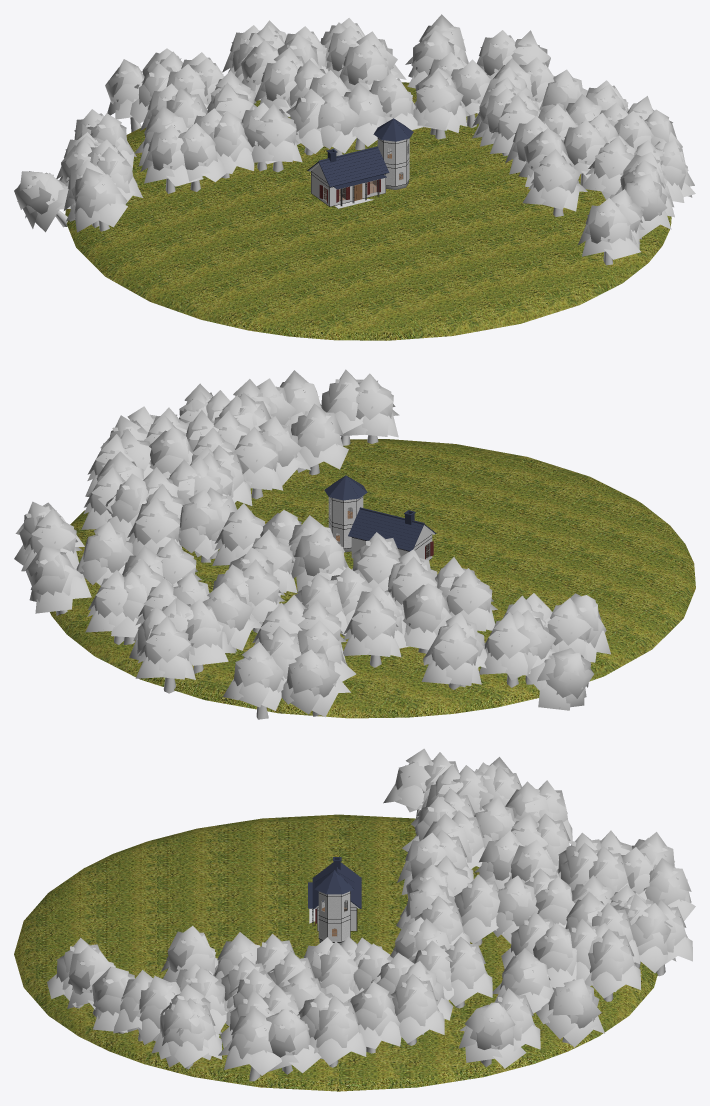
The model's file is AliceHouse.fbx.
3 renders of one model, top to bottom at view 1: azimuth 30°, elevation 25°; view 2: azimuth 150°, elevation 25°; view 3: azimuth 270°, elevation 25°, orthographic. The views are drawn at different scales.
Parts seen in each view (by area): view 1: Body; view 2: Body; view 3: Body.
Boxes of the visible parts, x1,y1,x2,y2 form: Body: [14, 14, 695, 340]; Body: [14, 369, 695, 719]; Body: [14, 748, 695, 1091].
Size of the model in its own units: 63.11 by 10.47 by 62.97.
